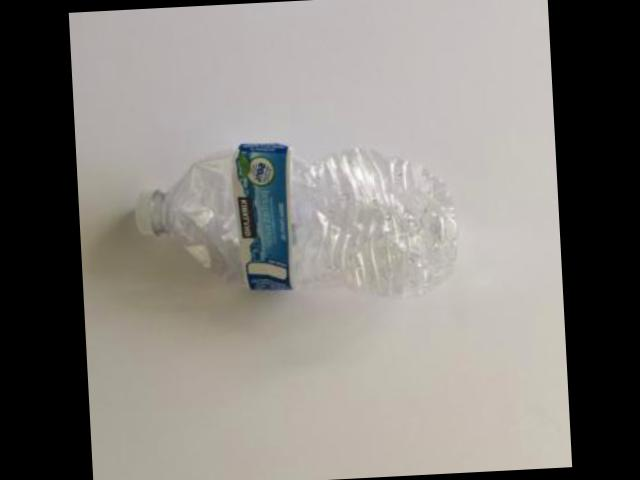plastic: (134, 143, 453, 294)
